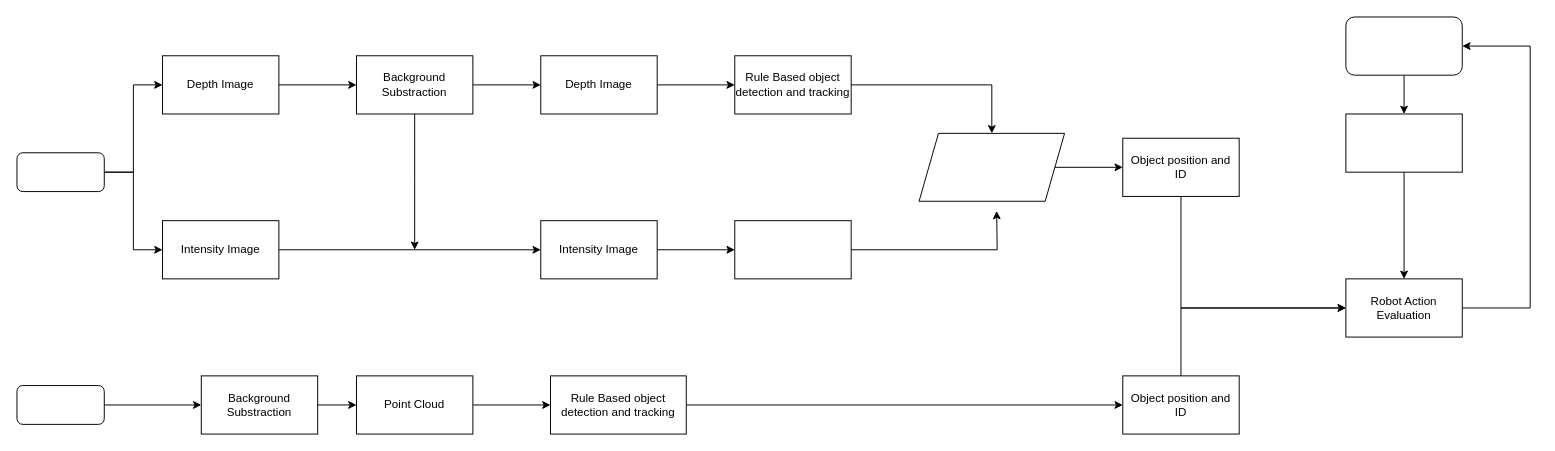
Image size: 1555x451. Some labels were removed from this diagram. Here are the shapes that lost their labels. From the top down, the centre of each, then its label:
the point at 1403,45: Robot Controls
the point at 1403,142: Danger Zone Calculation
the point at 60,172: Camera
the point at 991,166: Controlled Concatination
the point at 792,249: YOLOv8 + StrongSORT
the point at 60,404: LiDAR
